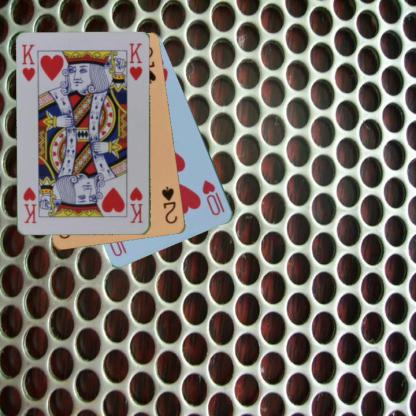10h: (200, 178, 226, 218)
2s: (159, 184, 179, 226)
Kh: (127, 185, 145, 225), (20, 42, 36, 83)
